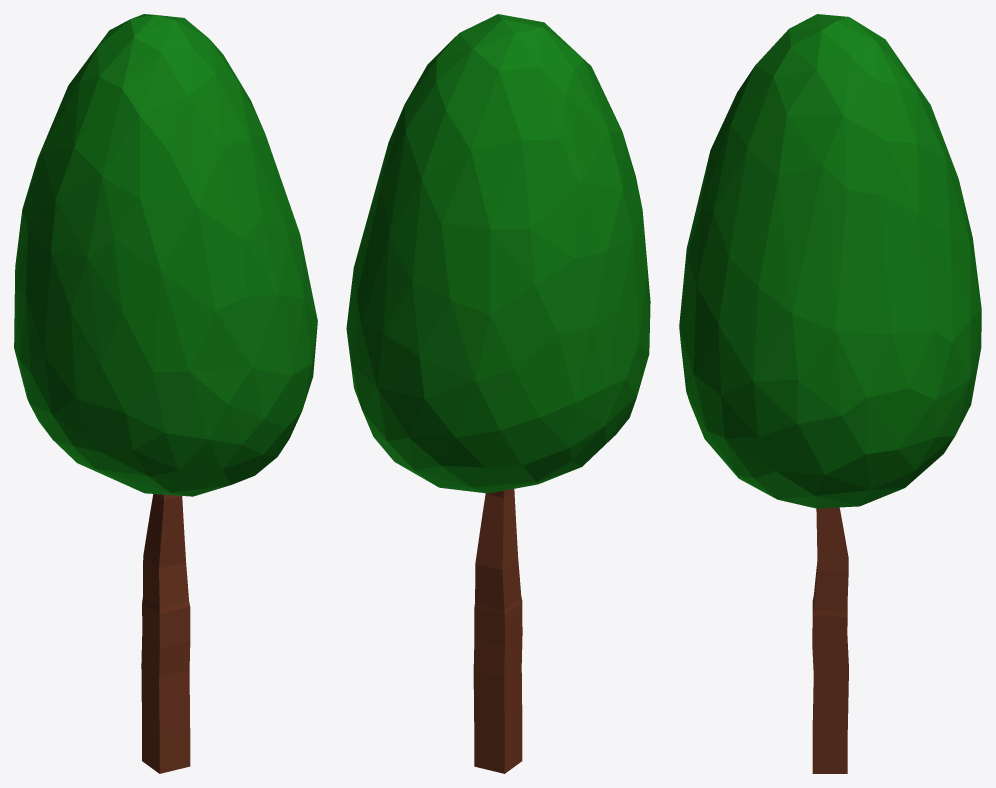
The model's file is BlobTreeGreen.fbx.
The picture shows the model from 3 angles, left to right: view 1: azimuth 30°, elevation 25°; view 2: azimuth 150°, elevation 25°; view 3: azimuth 270°, elevation 25°; orthographic projection.
Visible parts, largest first — view 1: Plane; view 2: Plane; view 3: Plane.
Boxes of the visible parts, x1,y1,x2,y2 form: Plane: (14,14,317,773); Plane: (346,14,650,773); Plane: (679,14,981,773).
Bounding box in the file's own units: 336 × 915 × 338.
